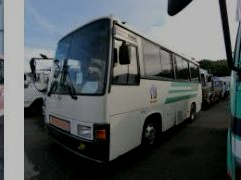bus: (42, 16, 205, 167)
